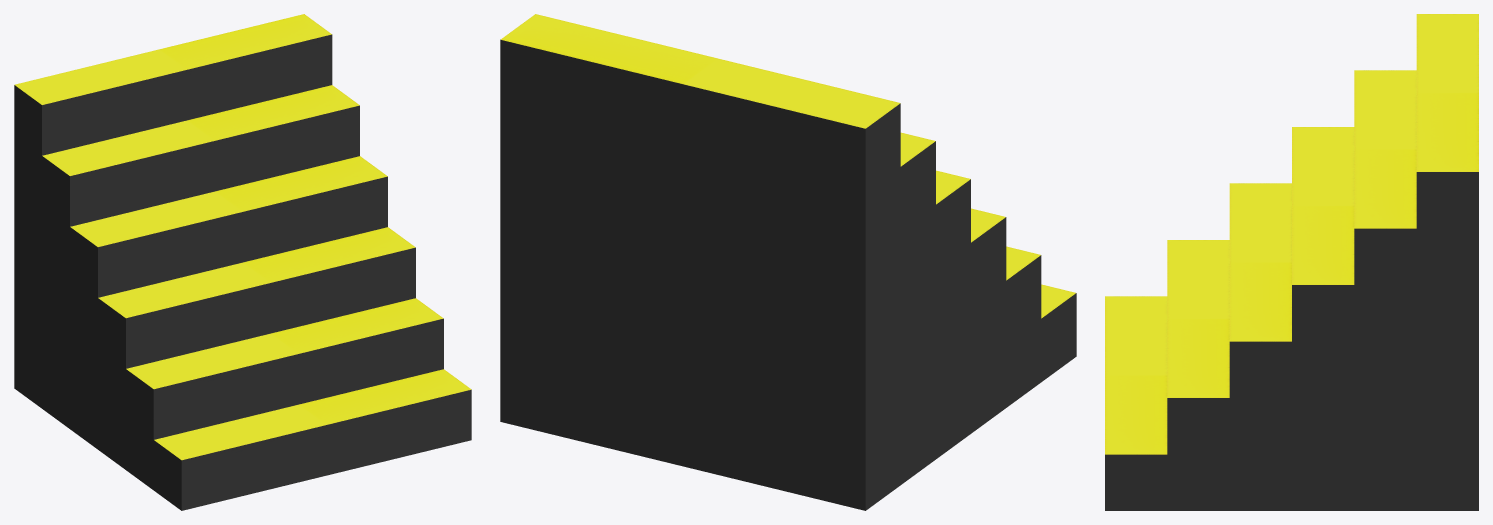
The model's file is kaidan1.fbx.
3 views of the same model, side by side, from view 1: azimuth 30°, elevation 25°; view 2: azimuth 150°, elevation 25°; view 3: azimuth 270°, elevation 25° (orthographic). The views are drawn at different scales.
Visible parts, largest first — view 1: kaidan; view 2: kaidan; view 3: kaidan.
Part boxes in pixels (x1,y1,x2,y2): kaidan: [14, 14, 471, 510]; kaidan: [500, 14, 1076, 510]; kaidan: [1105, 14, 1478, 510].
Size of the model in its own units: 5 by 5 by 5.
Materials: 1 (1 with a texture image).
